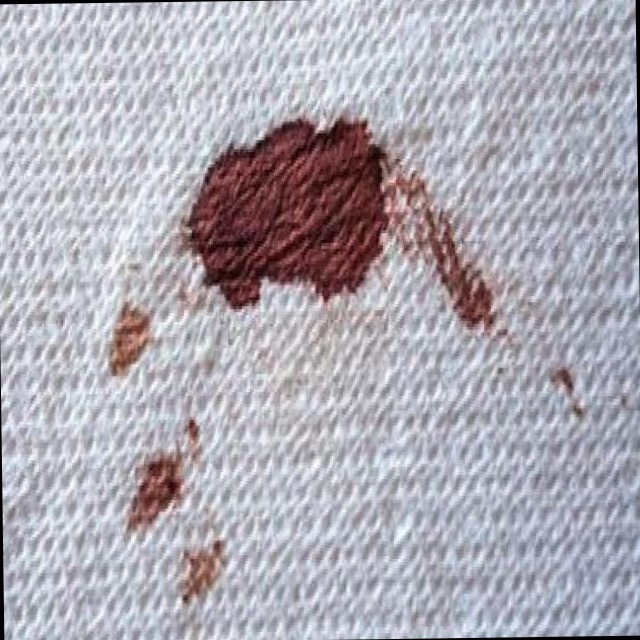blood: (185, 118, 391, 301)
